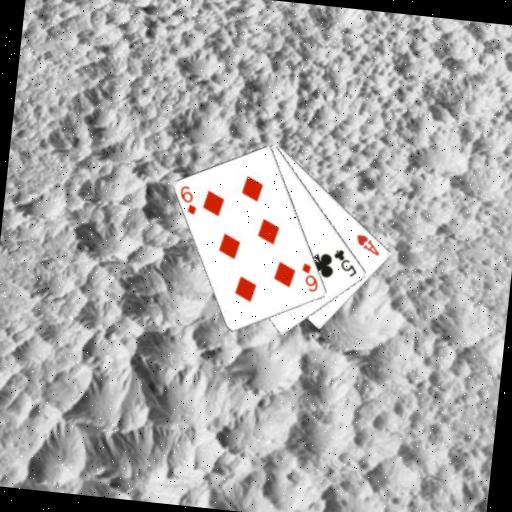5C: (329, 246, 361, 280)
6D: (175, 182, 201, 217), (297, 259, 322, 294)
AH: (353, 231, 384, 258)
